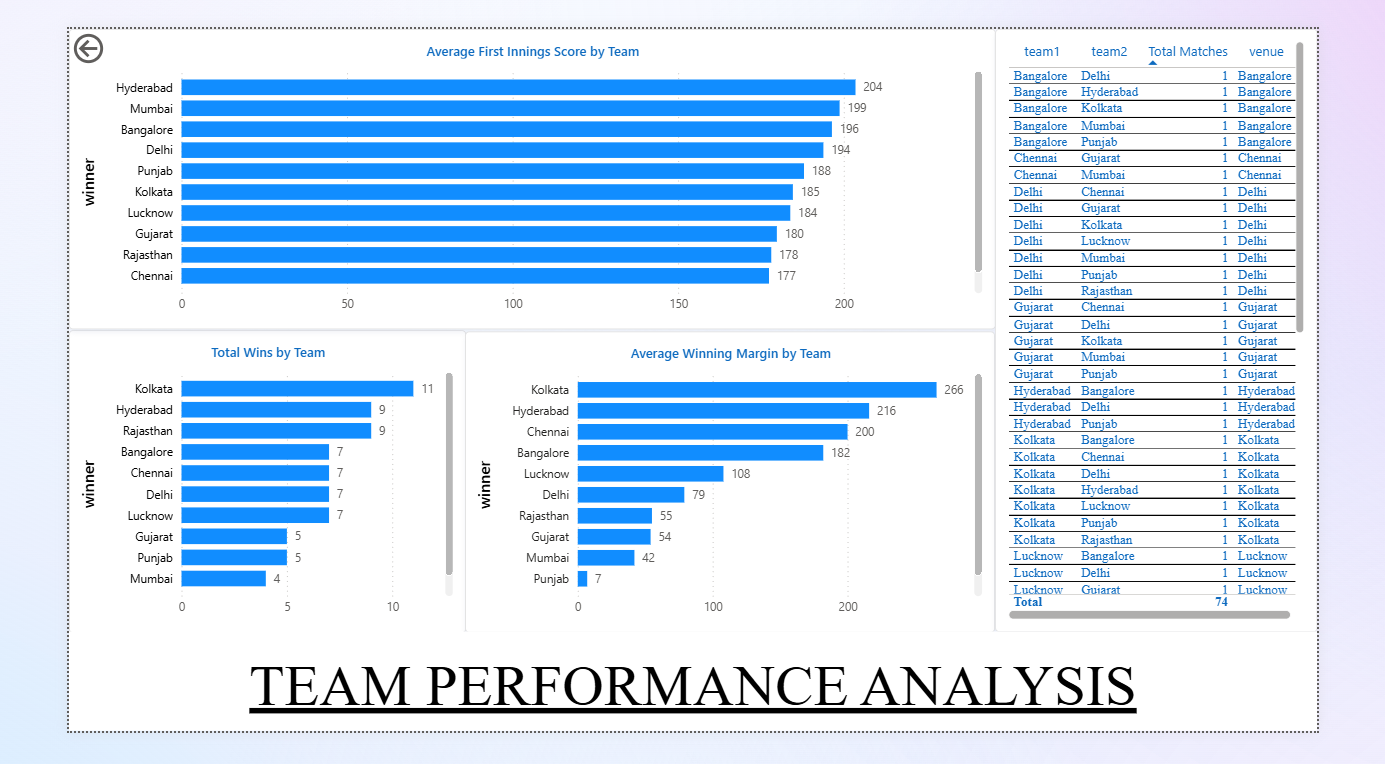

This screenshot's page, from the dashboard's own definition file:
{"tool":"powerbi","page":{"name":"Page 2","canvas":[1280,720],"ordinal":1},"visuals":[{"type":"clusteredBarChart","title":"Total Wins by Team","fields":{"Category":["ipl2024 (2).winner"],"Y":["CountNonNull(ipl2024 (2).winner)"]},"box":[0,308.6,407.1,310],"z":0},{"type":"clusteredBarChart","title":"Average First Innings Score by Team","fields":{"Y":["ipl2024 (2).Avg First Score"],"Category":["ipl2024 (2).winner"]},"box":[0,0,950,308.3],"z":1000},{"type":"clusteredBarChart","title":"Average Winning Margin by Team","fields":{"Category":["ipl2024 (2).winner"],"Y":["Sum(ipl2024 (2).run_difference)"]},"box":[406.9,310,543.3,308.8],"z":2000},{"type":"actionButton","box":[0,0,100,40],"z":3000},{"type":"tableEx","fields":{"Values":["ipl2024 (2).team1","ipl2024 (2).team2","ipl2024 (2).Total Matches","ipl2024 (2).venue"]},"box":[950,0,330,618.6],"z":4000},{"type":"textbox","box":[0,618.6,1280,101.4],"z":5000}]}

Visuals, with their boxes in screenshot pixels (x1, y1, x2, y2), scaled from the page's 1280x720 canvas onto the 1385x764 screenshot:
"Total Wins by Team" clusteredBarChart: 0, 327, 440, 656
"Average First Innings Score by Team" clusteredBarChart: 0, 0, 1028, 327
"Average Winning Margin by Team" clusteredBarChart: 440, 329, 1028, 657
actionButton: 0, 0, 108, 42
tableEx - ipl2024 (2).team1 x ipl2024 (2).team2: 1028, 0, 1384, 656
textbox: 0, 656, 1384, 763
